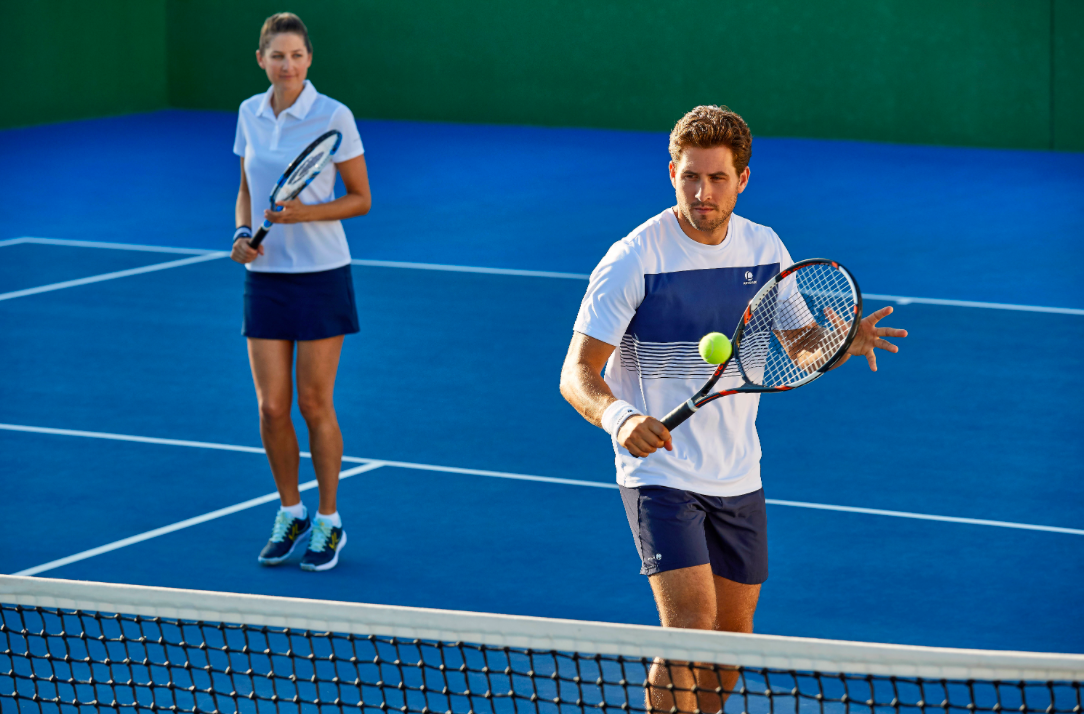tennis ball: (692, 326, 734, 372)
tennis player: (543, 98, 905, 627), (223, 10, 377, 581)
